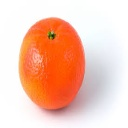orange: (15, 15, 87, 111)
